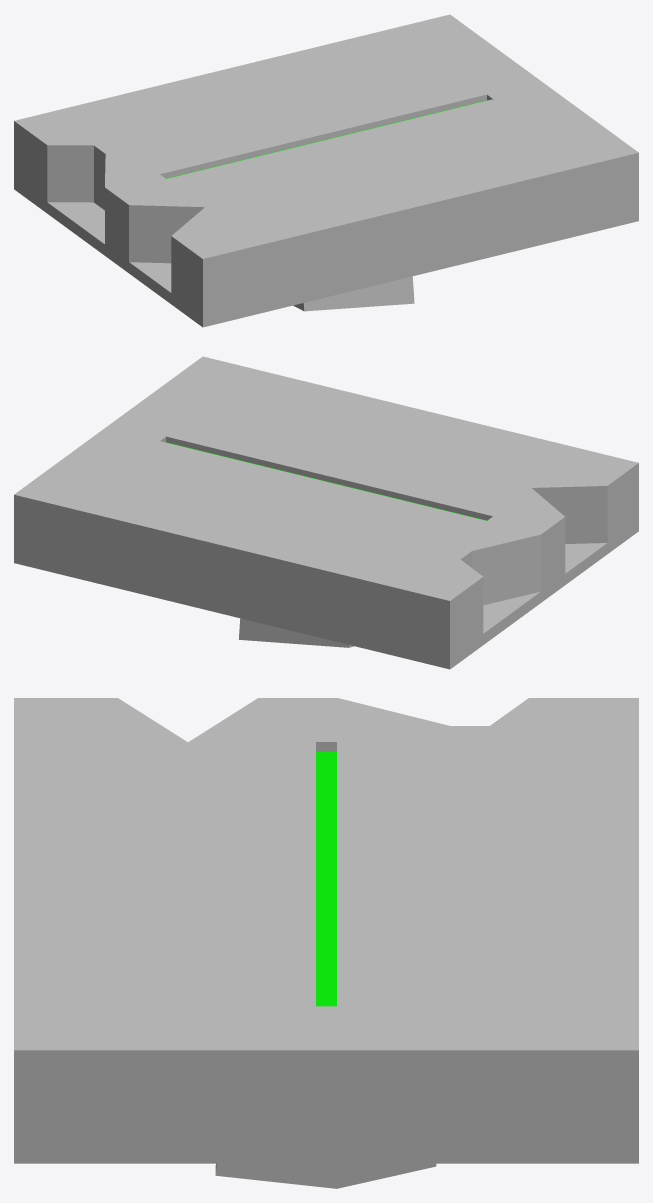
File: x_most_plita1_1_rmstrd.fbx
3 renders of one model, top to bottom at view 1: azimuth 30°, elevation 25°; view 2: azimuth 150°, elevation 25°; view 3: azimuth 270°, elevation 25°, orthographic. The views are drawn at different scales.
Visible parts, largest first — view 1: x_most_plita1_1_rmstrd1; view 2: x_most_plita1_1_rmstrd1; view 3: x_most_plita1_1_rmstrd1.
Boxes of the visible parts, x1=… form: x_most_plita1_1_rmstrd1: x1=14, y1=14, x2=638, y2=327; x_most_plita1_1_rmstrd1: x1=14, y1=356, x2=638, y2=669; x_most_plita1_1_rmstrd1: x1=14, y1=698, x2=638, y2=1188.
Bounding box in the file's own units: 4 × 1.43 × 3.
